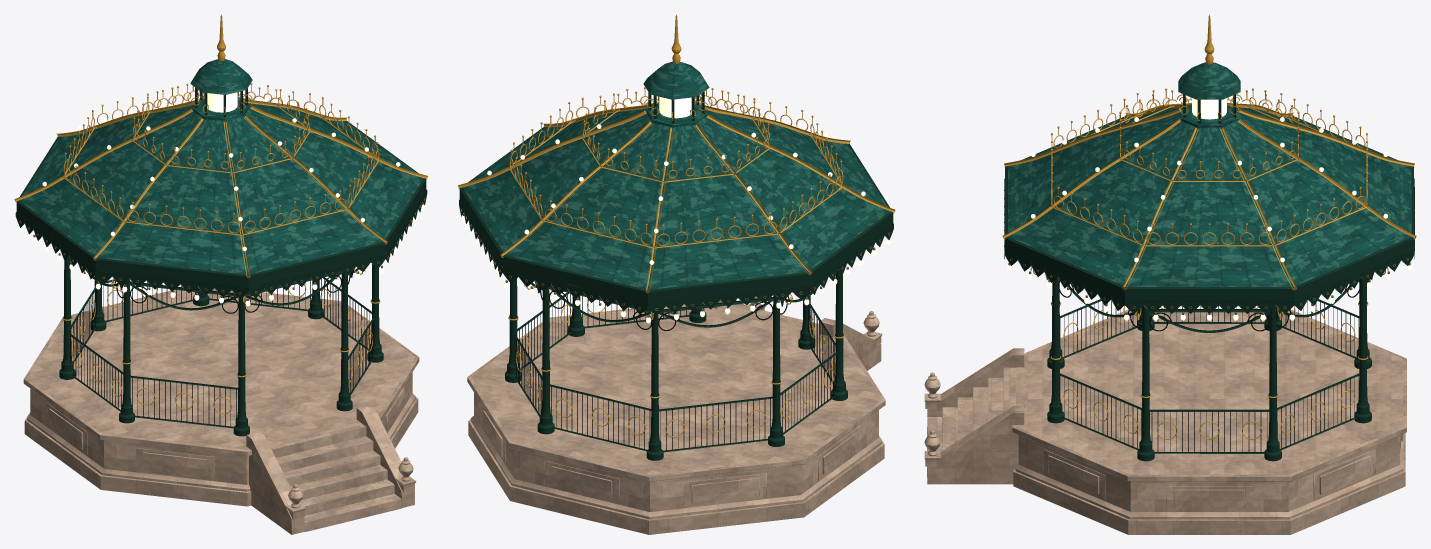
File: w3_bg_kiosko.glb
3 renders of one model, left to right at view 1: azimuth 30°, elevation 25°; view 2: azimuth 150°, elevation 25°; view 3: azimuth 270°, elevation 25°, orthographic. The views are drawn at different scales.
Parts seen in each view (by area): view 1: w3_bg_kiosko; view 2: w3_bg_kiosko; view 3: w3_bg_kiosko.
Part boxes in pixels (bbox=[...]): w3_bg_kiosko: bbox=[14, 14, 427, 534]; w3_bg_kiosko: bbox=[458, 14, 895, 534]; w3_bg_kiosko: bbox=[924, 14, 1416, 534].
Bounding box in the file's own units: 7.6 × 8.88 × 9.03.
Materials: 5 (4 with a texture image).
